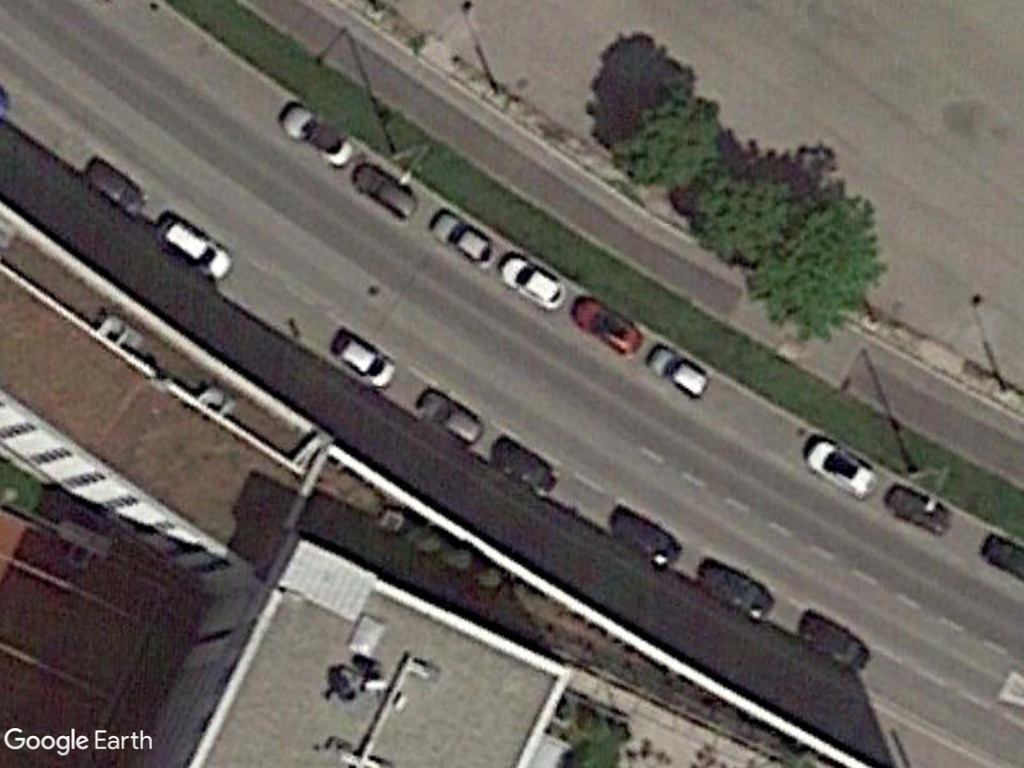car: (152, 213, 236, 285), (799, 430, 880, 504), (277, 99, 355, 172), (423, 204, 500, 273), (495, 246, 569, 317), (411, 384, 487, 452), (569, 292, 643, 360), (346, 155, 422, 220), (641, 341, 714, 407), (82, 153, 149, 220), (332, 328, 400, 394)
